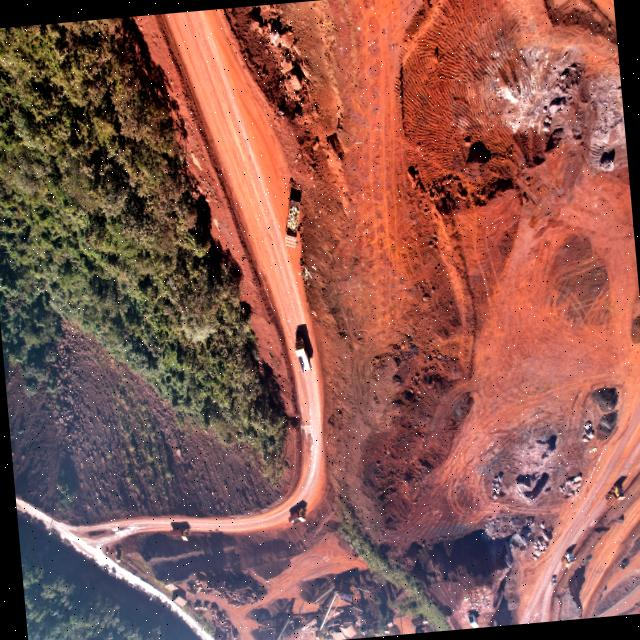Dumper truck: (279, 190, 306, 248), (292, 333, 310, 372), (604, 481, 624, 508), (285, 504, 307, 526), (560, 548, 574, 571), (168, 526, 188, 542), (372, 620, 389, 634), (411, 614, 426, 624), (414, 627, 422, 633)
Excavator: (208, 604, 218, 620)
car: (550, 576, 555, 584)
person: (464, 611, 468, 617), (461, 614, 464, 620), (466, 591, 469, 597), (481, 598, 484, 604), (482, 614, 484, 620)
